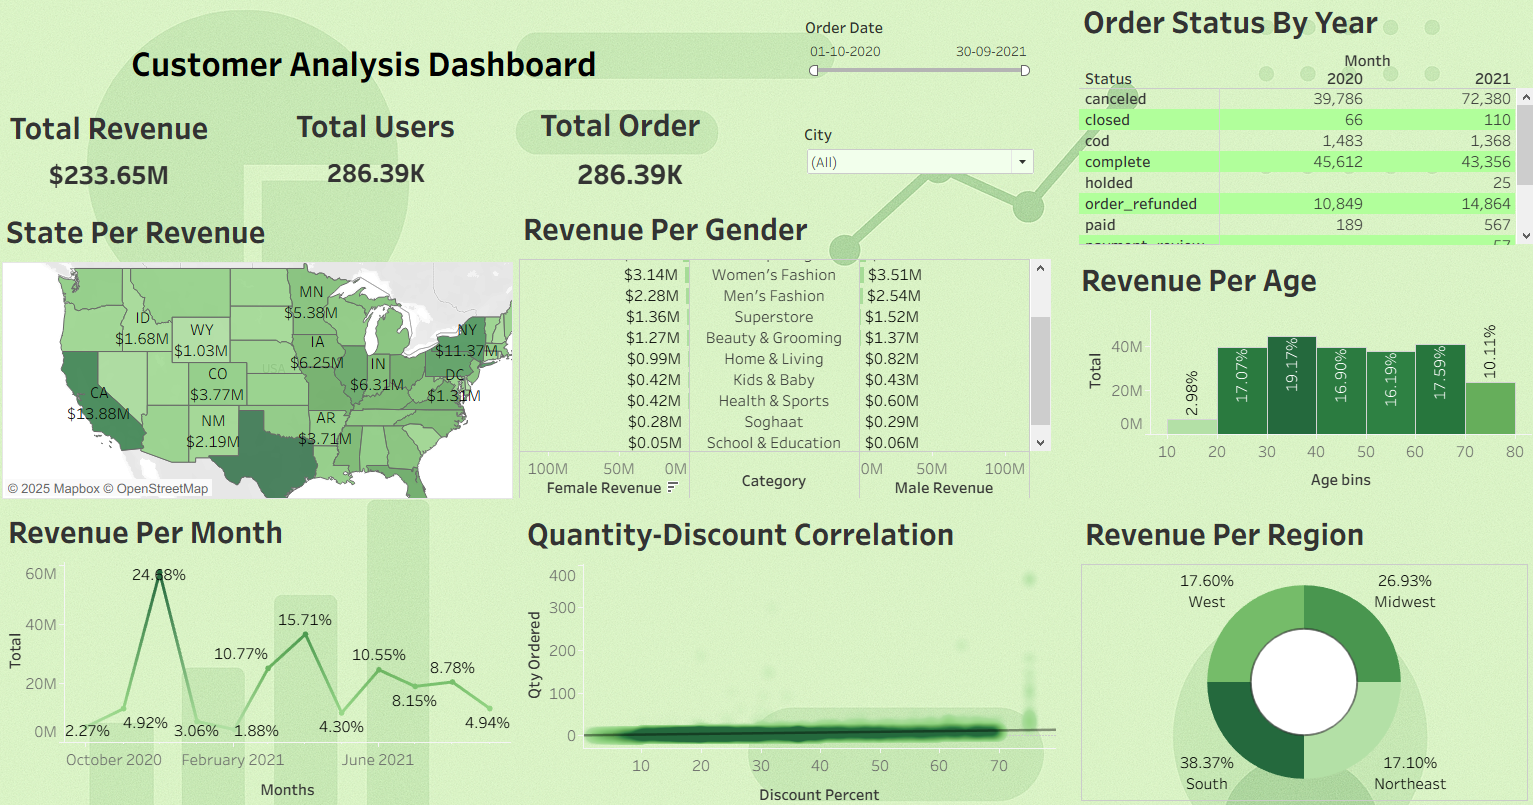

The dashboard page shown, as its layout file describes it:
{"tool":"tableau","page":{"name":"Dashboard 1","canvas":[1600,900],"ordinal":0},"visuals":[{"type":"image","param":"C:/Users/Suhas/Downloads/ChatGPT Image Sep 9, 2025, 09_59_56 AM.png","box":[0,0,1600,900]},{"type":"worksheet","title":"Order Status By Year","mark":"Automatic","rows":["status"],"cols":["month"],"box":[1114,6,476,249]},{"type":"filter","title":"Total Orders","param":"[federated.0zirvbr16fgqyx1gds4is0kjfz3h].[none:order_date:qk]","box":[840,27,229,78]},{"type":"text","box":[46,35,706,75]},{"type":"worksheet","title":"Total Orders","mark":"Automatic","box":[561,109,208,110]},{"type":"worksheet","title":"Total Users","mark":"Automatic","box":[313,110,196,110]},{"type":"worksheet","title":"Total Revenue","mark":"Automatic","box":[28,112,237,112]},{"type":"filter","title":"Order Status By Year","param":"[federated.0zirvbr16fgqyx1gds4is0kjfz3h].[none:City:nk]","box":[839,134,233,73]},{"type":"worksheet","title":"Revenue Per Gender","mark":"Automatic","rows":["category"],"cols":["Calculation_464433741144817666","Calculation_464433741124624384","Calculation_464433741144457217"],"box":[554,213,533,296]},{"type":"worksheet","title":"State Per Revenue","mark":"Automatic","box":[37,216,511,293]},{"type":"worksheet","title":"Revenue Per Age","mark":"Automatic","rows":["total"],"cols":["Age (bin)"],"box":[1112,264,455,243]},{"type":"worksheet","title":"Revenue Per Month","mark":"Automatic","rows":["total"],"cols":["month"],"box":[39,516,507,294]},{"type":"worksheet","title":"Quantity-Discount Correlation","mark":"Heatmap","rows":["qty_ordered"],"cols":["Discount_Percent"],"box":[558,518,533,297]},{"type":"worksheet","title":"Revenue Per Region","mark":"Circle","rows":["Calculation_464433741124624384","Calculation_464433741124624384"],"box":[1116,518,447,293]}]}

Visuals, with their boxes on the page's 1600x900 design canvas (x1, y1, x2, y2). These are canvas units, not pixel positions in the 1533x805 screenshot, which may show the page scaled, cropped or inside an application window:
image: pyautogui.locateOnScreen(0, 0, 1600, 900)
"Order Status By Year" worksheet: pyautogui.locateOnScreen(1114, 6, 1590, 255)
"Total Orders" filter: pyautogui.locateOnScreen(840, 27, 1069, 105)
text: pyautogui.locateOnScreen(46, 35, 752, 110)
"Total Orders" worksheet: pyautogui.locateOnScreen(561, 109, 769, 219)
"Total Users" worksheet: pyautogui.locateOnScreen(313, 110, 509, 220)
"Total Revenue" worksheet: pyautogui.locateOnScreen(28, 112, 265, 224)
"Order Status By Year" filter: pyautogui.locateOnScreen(839, 134, 1072, 207)
"Revenue Per Gender" worksheet: pyautogui.locateOnScreen(554, 213, 1087, 509)
"State Per Revenue" worksheet: pyautogui.locateOnScreen(37, 216, 548, 509)
"Revenue Per Age" worksheet: pyautogui.locateOnScreen(1112, 264, 1567, 507)
"Revenue Per Month" worksheet: pyautogui.locateOnScreen(39, 516, 546, 810)
"Quantity-Discount Correlation" worksheet (Heatmap marks): pyautogui.locateOnScreen(558, 518, 1091, 815)
"Revenue Per Region" worksheet (Circle marks): pyautogui.locateOnScreen(1116, 518, 1563, 811)
